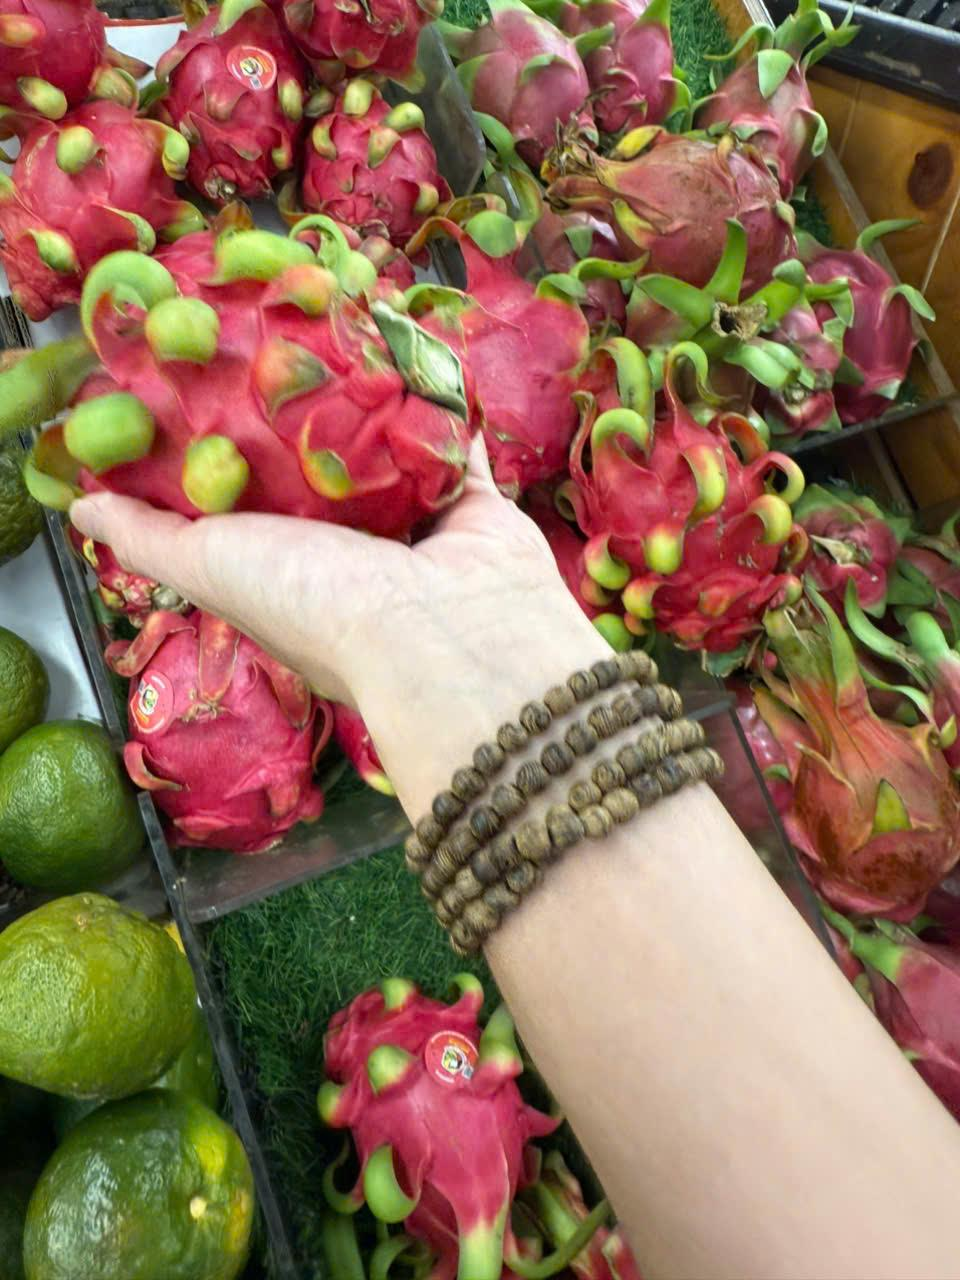dragon fruit: (55, 241, 472, 542), (560, 333, 814, 664), (315, 976, 572, 1278), (753, 606, 960, 918), (123, 595, 322, 838), (440, 216, 598, 476), (0, 98, 174, 314), (588, 131, 784, 310), (170, 5, 308, 204), (300, 66, 452, 240)
